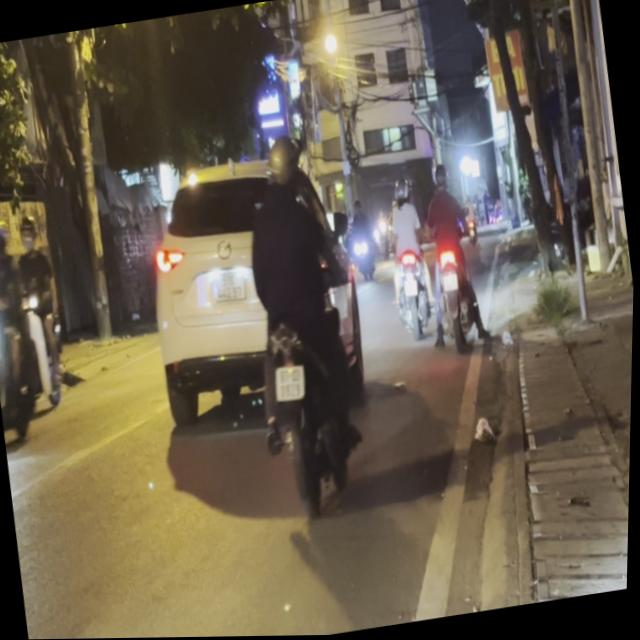helmet: (260, 130, 306, 198), (16, 210, 40, 251), (0, 217, 12, 262), (0, 216, 9, 263)
licenseplate: (219, 115, 386, 519), (1, 206, 82, 430), (0, 210, 52, 452)
nohelmet: (272, 363, 307, 401)
